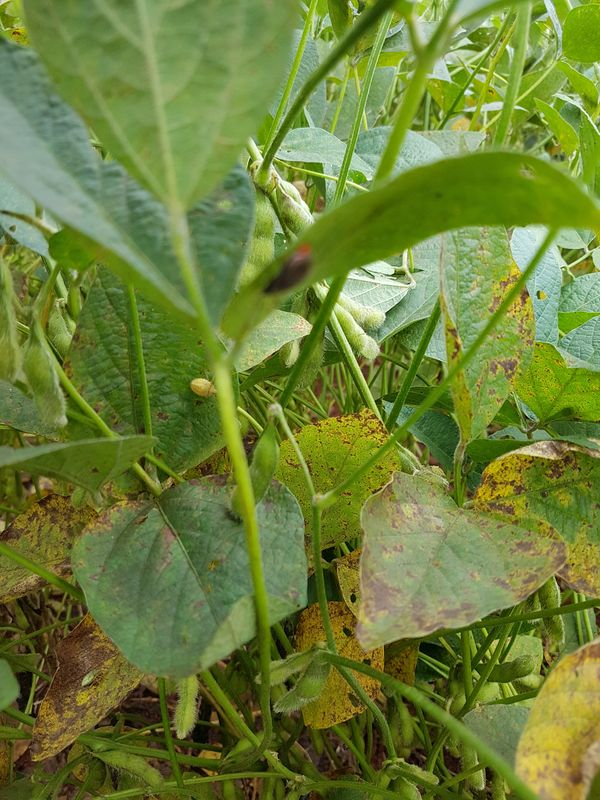Euschistus_heros_ninfa: (182, 371, 223, 406), (77, 666, 106, 690)
Lagria_villosa: (258, 236, 322, 302)
